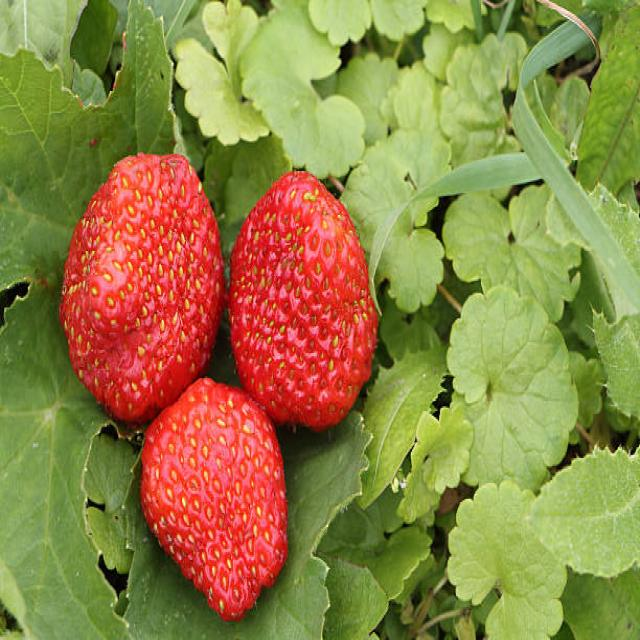Healthy Fruit: (61, 154, 226, 428), (230, 169, 377, 431), (141, 379, 290, 621)
